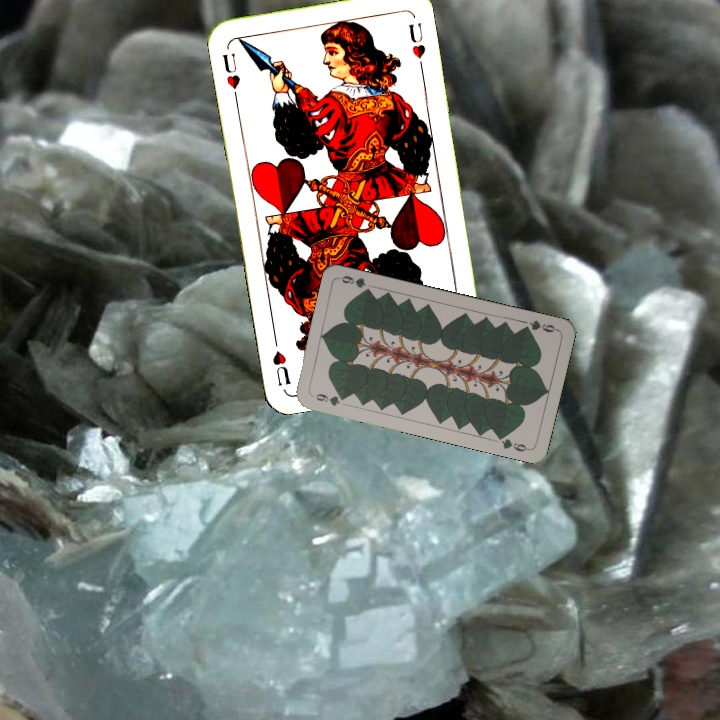G9: (308, 389, 349, 409), (518, 316, 560, 335)
HU: (218, 49, 243, 103)
